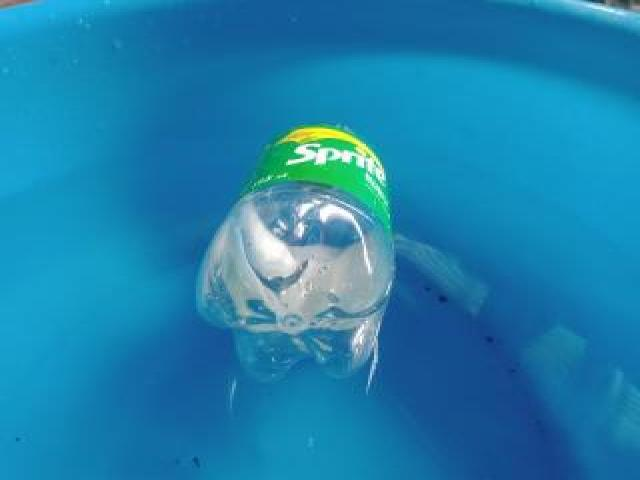Bottle: (187, 115, 408, 388)
